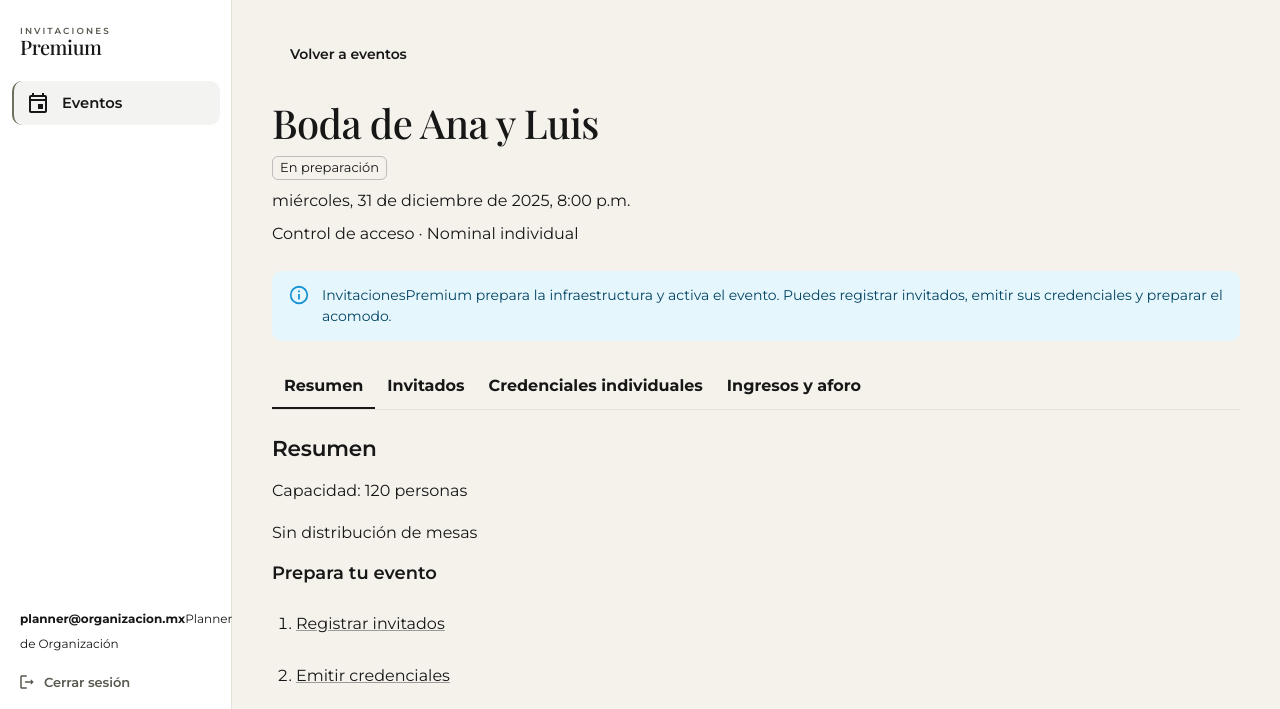
Test case: ACCESS_CONTROL Client workspace › guides nominal preparation using existing sections with floorplan=false
The width and height of the screenshot is (1280, 709).
Click the link "Registrar invitados" at (370, 623), box [296, 614, 445, 633]
(page scrolled)
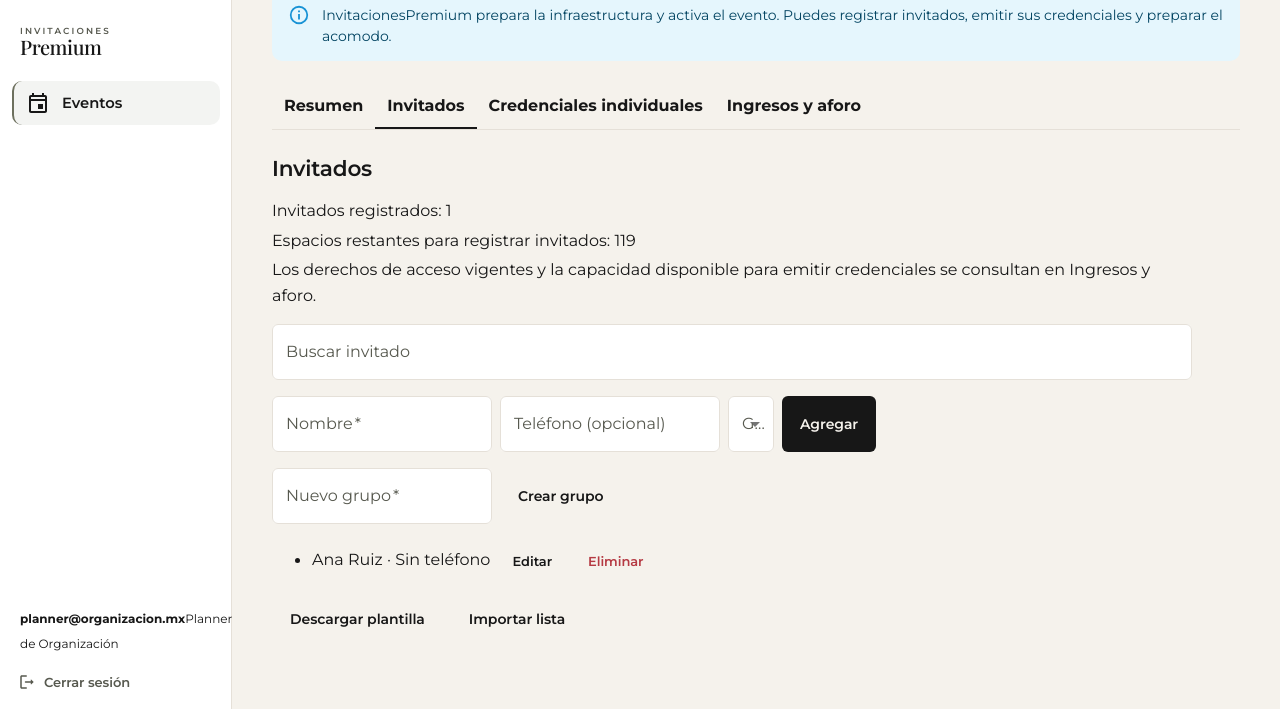
Expected: the element with test id "guest-management-panel" is shown, [272, 154, 1192, 640]
